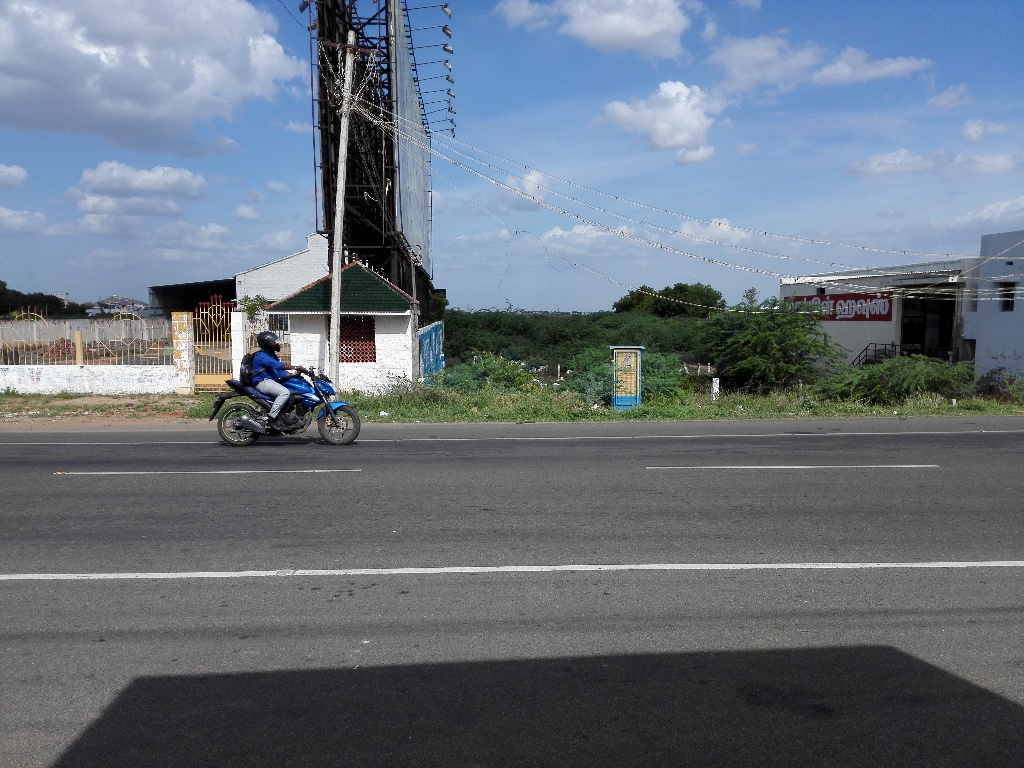biker: (198, 302, 372, 457)
helmet: (248, 323, 290, 362)
